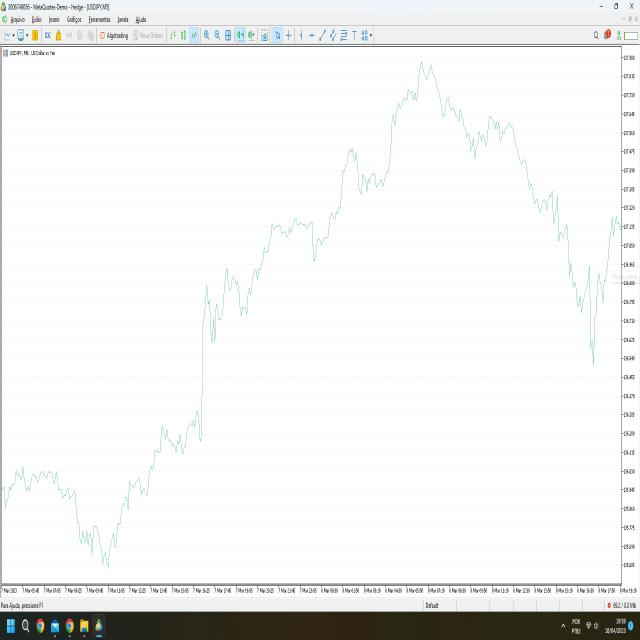bandeira_alta: (195, 252, 242, 424)
fundo_duplo: (97, 541, 115, 577), (236, 294, 254, 323)
oco_inv: (561, 245, 615, 384)
